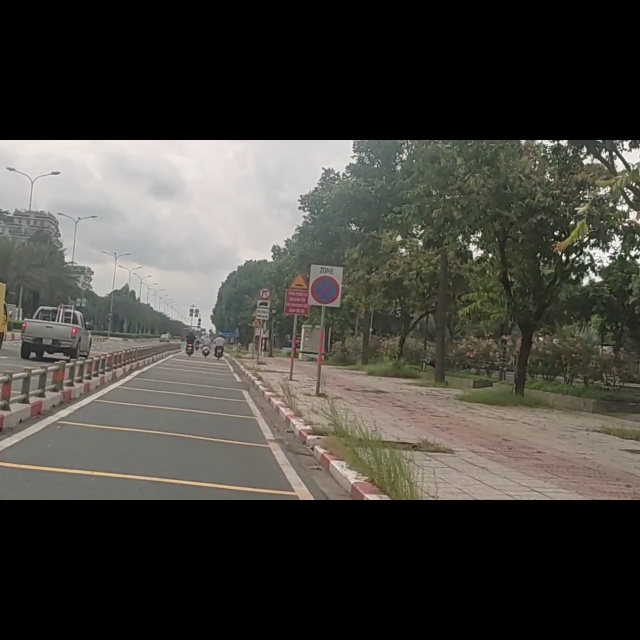bien_cam: (309, 219, 341, 297), (289, 235, 308, 265), (257, 283, 270, 320), (258, 261, 271, 282)
